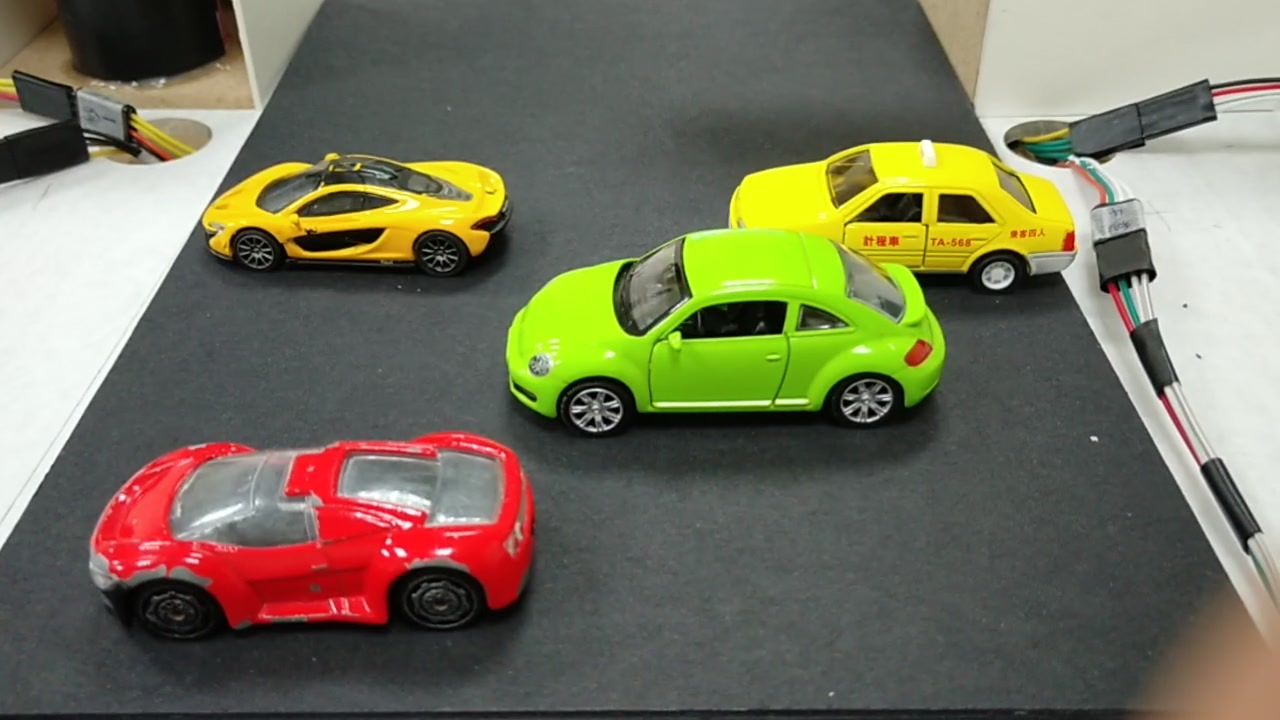car: (98, 439, 537, 639), (513, 251, 943, 441), (731, 144, 1076, 283), (208, 161, 510, 262)
